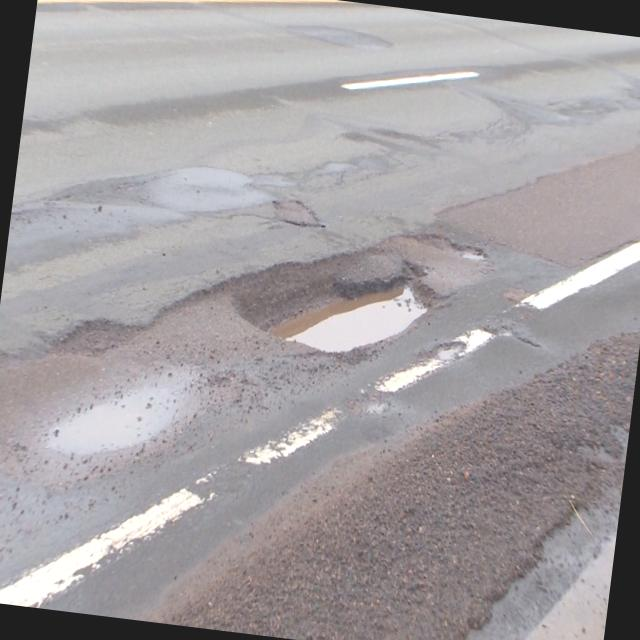bad-road: (218, 235, 440, 366), (430, 333, 468, 365), (451, 240, 489, 264)
